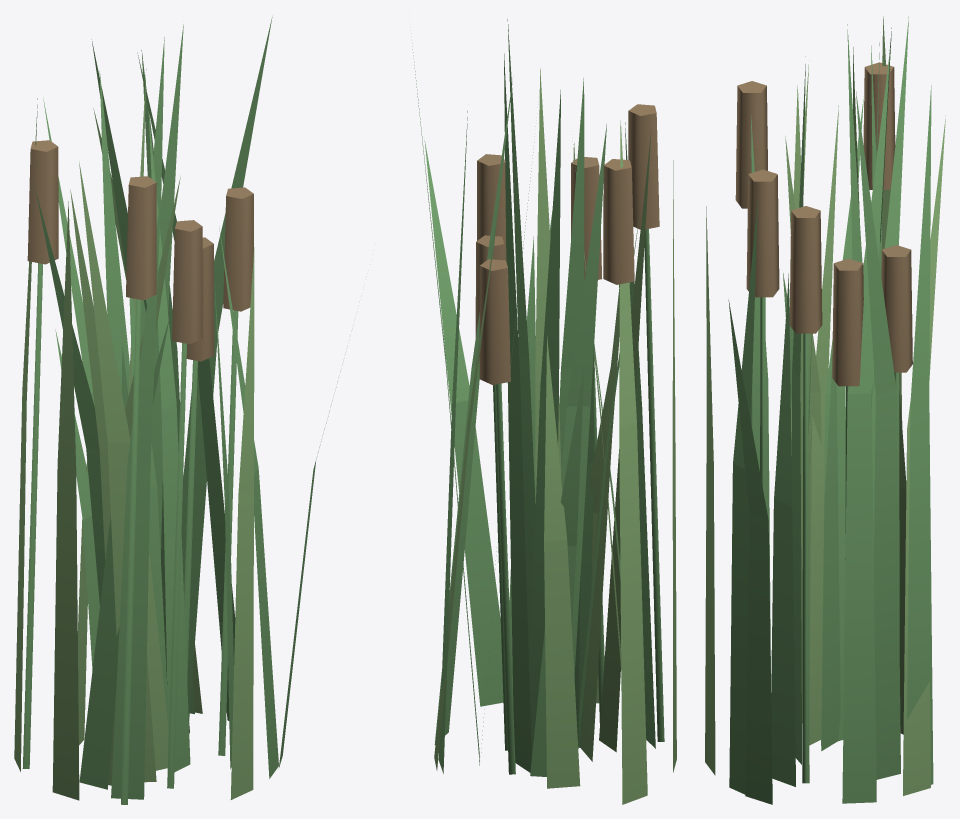
The model's file is schilf_2.glb.
The picture shows the model from 3 angles, left to right: view 1: azimuth 30°, elevation 25°; view 2: azimuth 150°, elevation 25°; view 3: azimuth 270°, elevation 25°; orthographic projection. The views are drawn at different scales.
Parts seen in each view (by area): view 1: G_schilf_2; view 2: G_schilf_2; view 3: G_schilf_2.
Part boxes in pixels (x1,y1,x2,y2): G_schilf_2: [14, 17, 340, 804]; G_schilf_2: [411, 19, 676, 804]; G_schilf_2: [705, 16, 945, 804].
Size of the model in its own units: 1.01 by 2.4 by 0.6985.
